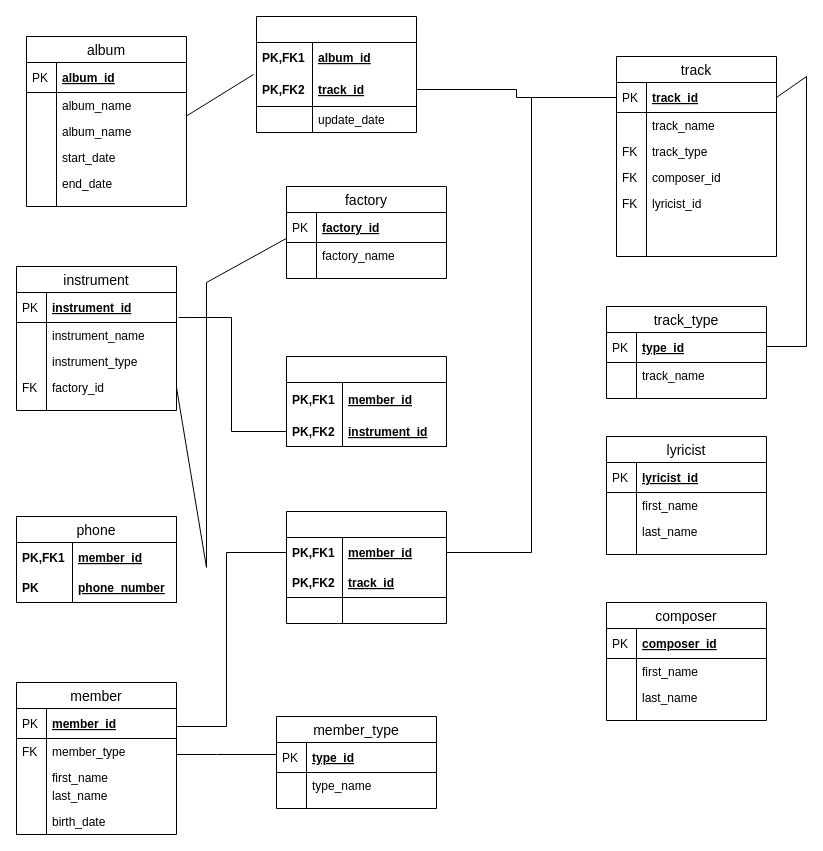
Some shapes in this 823 by 851 pixel diagram are drawn without their labels. Each missing label, with the box of its shape:
album_track: (256, 16, 416, 132)
member_instrument: (286, 356, 446, 446)
member_track: (286, 510, 446, 624)
